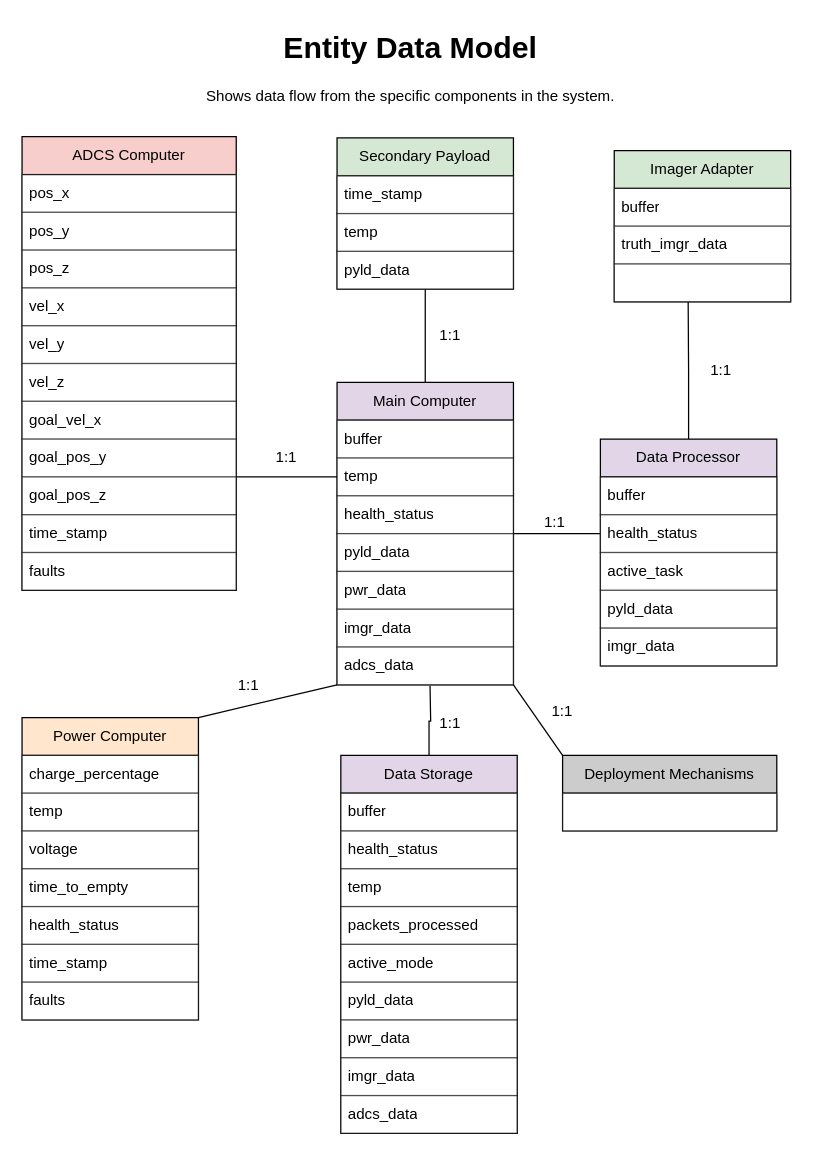
Image size: 813x1155. Some labels were removed from this diagram. The shapes that lost their labels are listed below. From the top down, each one's centre as x and y in pixels, then its label:
At [702,282]: "multi_imgr_data".
At [669,811]: "voltage (high/low)".
